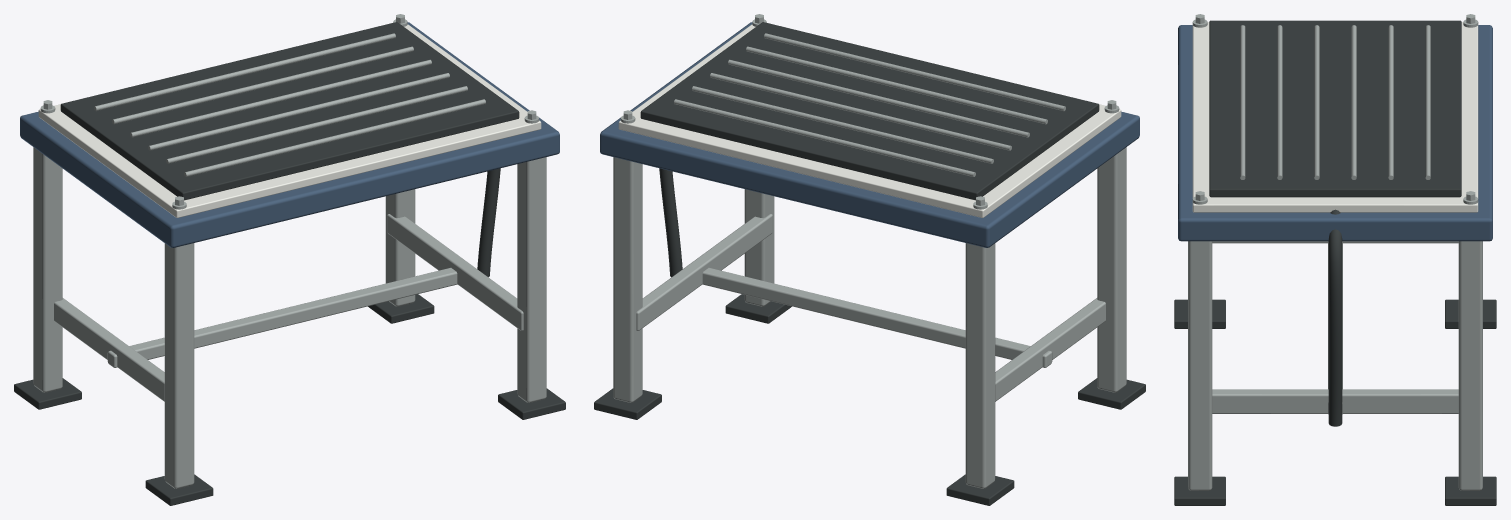
Rendered from spacecraft-parachute-packing-hall-spacecraft-parachute-988cc5f9__32095.glb.
The picture shows the model from 3 angles, left to right: view 1: azimuth 30°, elevation 25°; view 2: azimuth 150°, elevation 25°; view 3: azimuth 270°, elevation 25°; orthographic projection. The views are drawn at different scales.
Parts seen in each view (by area): view 1: spacecraft-parachute-packing-hall-vacuum-bagging-table; view 2: spacecraft-parachute-packing-hall-vacuum-bagging-table; view 3: spacecraft-parachute-packing-hall-vacuum-bagging-table.
Boxes of the visible parts, box(x1,y1,x2,y2) form: spacecraft-parachute-packing-hall-vacuum-bagging-table: box(14, 14, 565, 505); spacecraft-parachute-packing-hall-vacuum-bagging-table: box(594, 14, 1145, 505); spacecraft-parachute-packing-hall-vacuum-bagging-table: box(1174, 14, 1496, 505).
Size of the model in its own units: 1.31 by 0.913 by 0.87.
